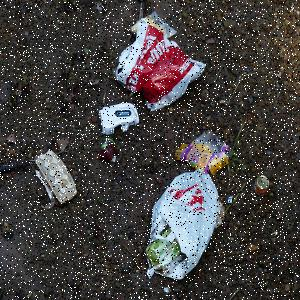Trash: (117, 13, 207, 114), (145, 174, 219, 280), (36, 149, 78, 207), (174, 132, 232, 174), (254, 174, 271, 198)
